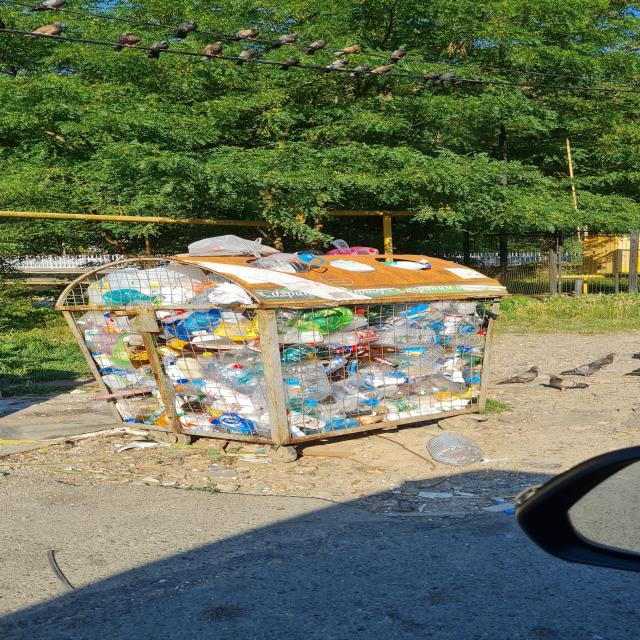bin: (46, 262, 498, 445)
plastic: (178, 235, 382, 259), (418, 429, 490, 467)
